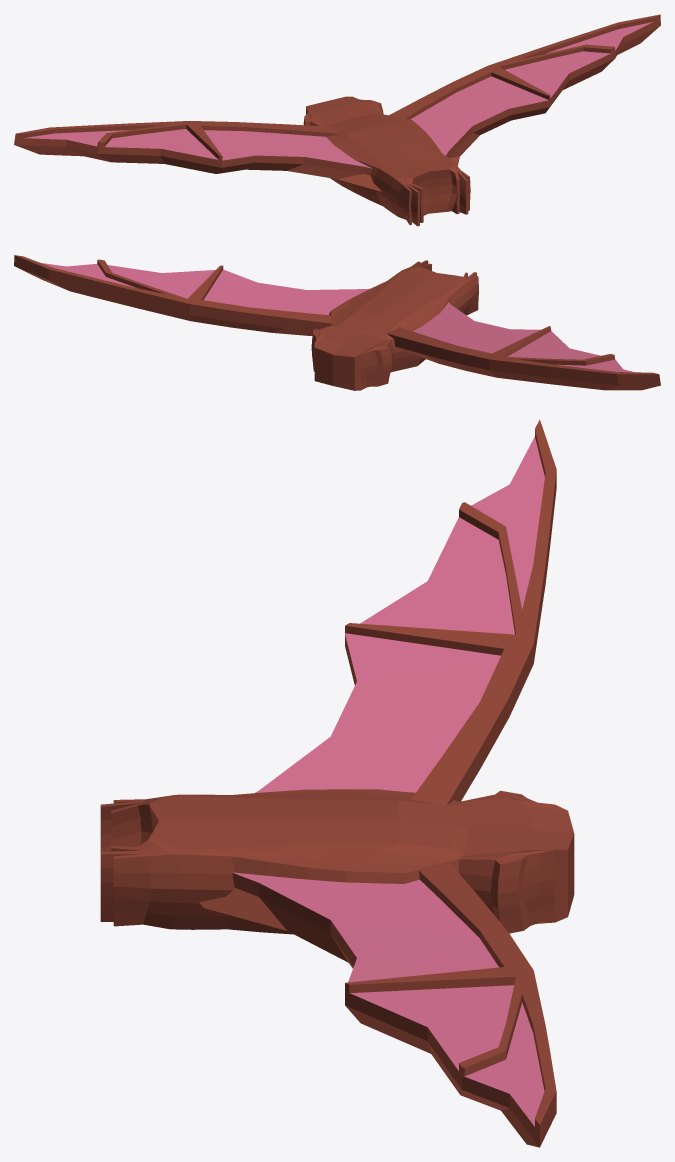
File: BatSmall.fbx
The picture shows the model from 3 angles, top to bottom: view 1: azimuth 30°, elevation 25°; view 2: azimuth 150°, elevation 25°; view 3: azimuth 270°, elevation 25°; orthographic projection. The views are drawn at different scales.
Parts seen in each view (by area): view 1: R_Wing.001, L_Wing.001, Body.001; view 2: L_Wing.001, Body.001, R_Wing.001; view 3: Body.001, R_Wing.001, L_Wing.001.
Part boxes in pixels (bbox=[...]): R_Wing.001: bbox=[14, 121, 381, 191]; L_Wing.001: bbox=[389, 14, 660, 165]; Body.001: bbox=[303, 96, 470, 226]; L_Wing.001: bbox=[14, 255, 369, 336]; Body.001: bbox=[311, 260, 478, 390]; R_Wing.001: bbox=[386, 302, 660, 390]; Body.001: bbox=[100, 789, 574, 934]; R_Wing.001: bbox=[254, 419, 556, 805]; L_Wing.001: bbox=[199, 863, 556, 1147].
Size of the model in its own units: 515 by 66.89 by 163.
